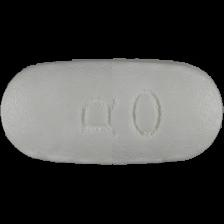0074-3045: (0, 0, 224, 224)
